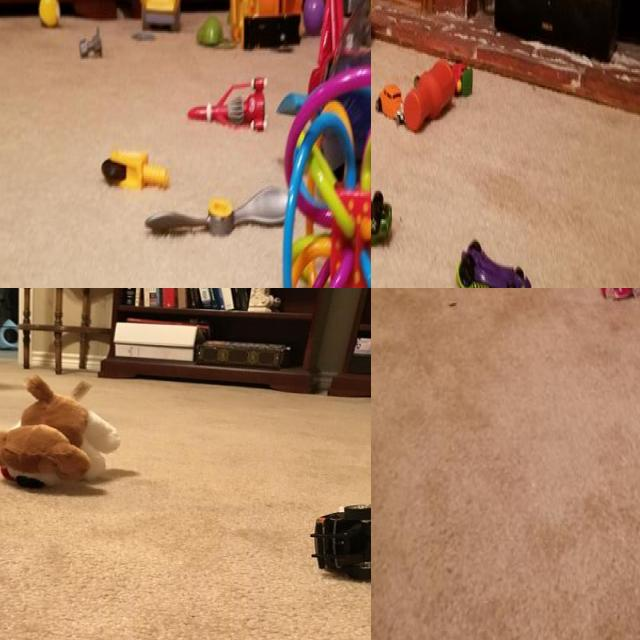toy: (278, 67, 371, 288), (316, 0, 371, 252), (0, 375, 122, 483), (140, 184, 290, 238), (310, 489, 371, 577), (180, 80, 270, 136), (226, 0, 305, 57), (456, 234, 533, 288), (100, 139, 168, 198), (406, 56, 455, 136), (240, 14, 303, 52), (371, 73, 409, 123), (136, 0, 187, 36), (371, 187, 393, 245), (450, 42, 473, 96), (198, 7, 227, 49), (78, 24, 104, 61), (303, 0, 326, 35), (597, 288, 640, 304), (38, 0, 61, 26)
